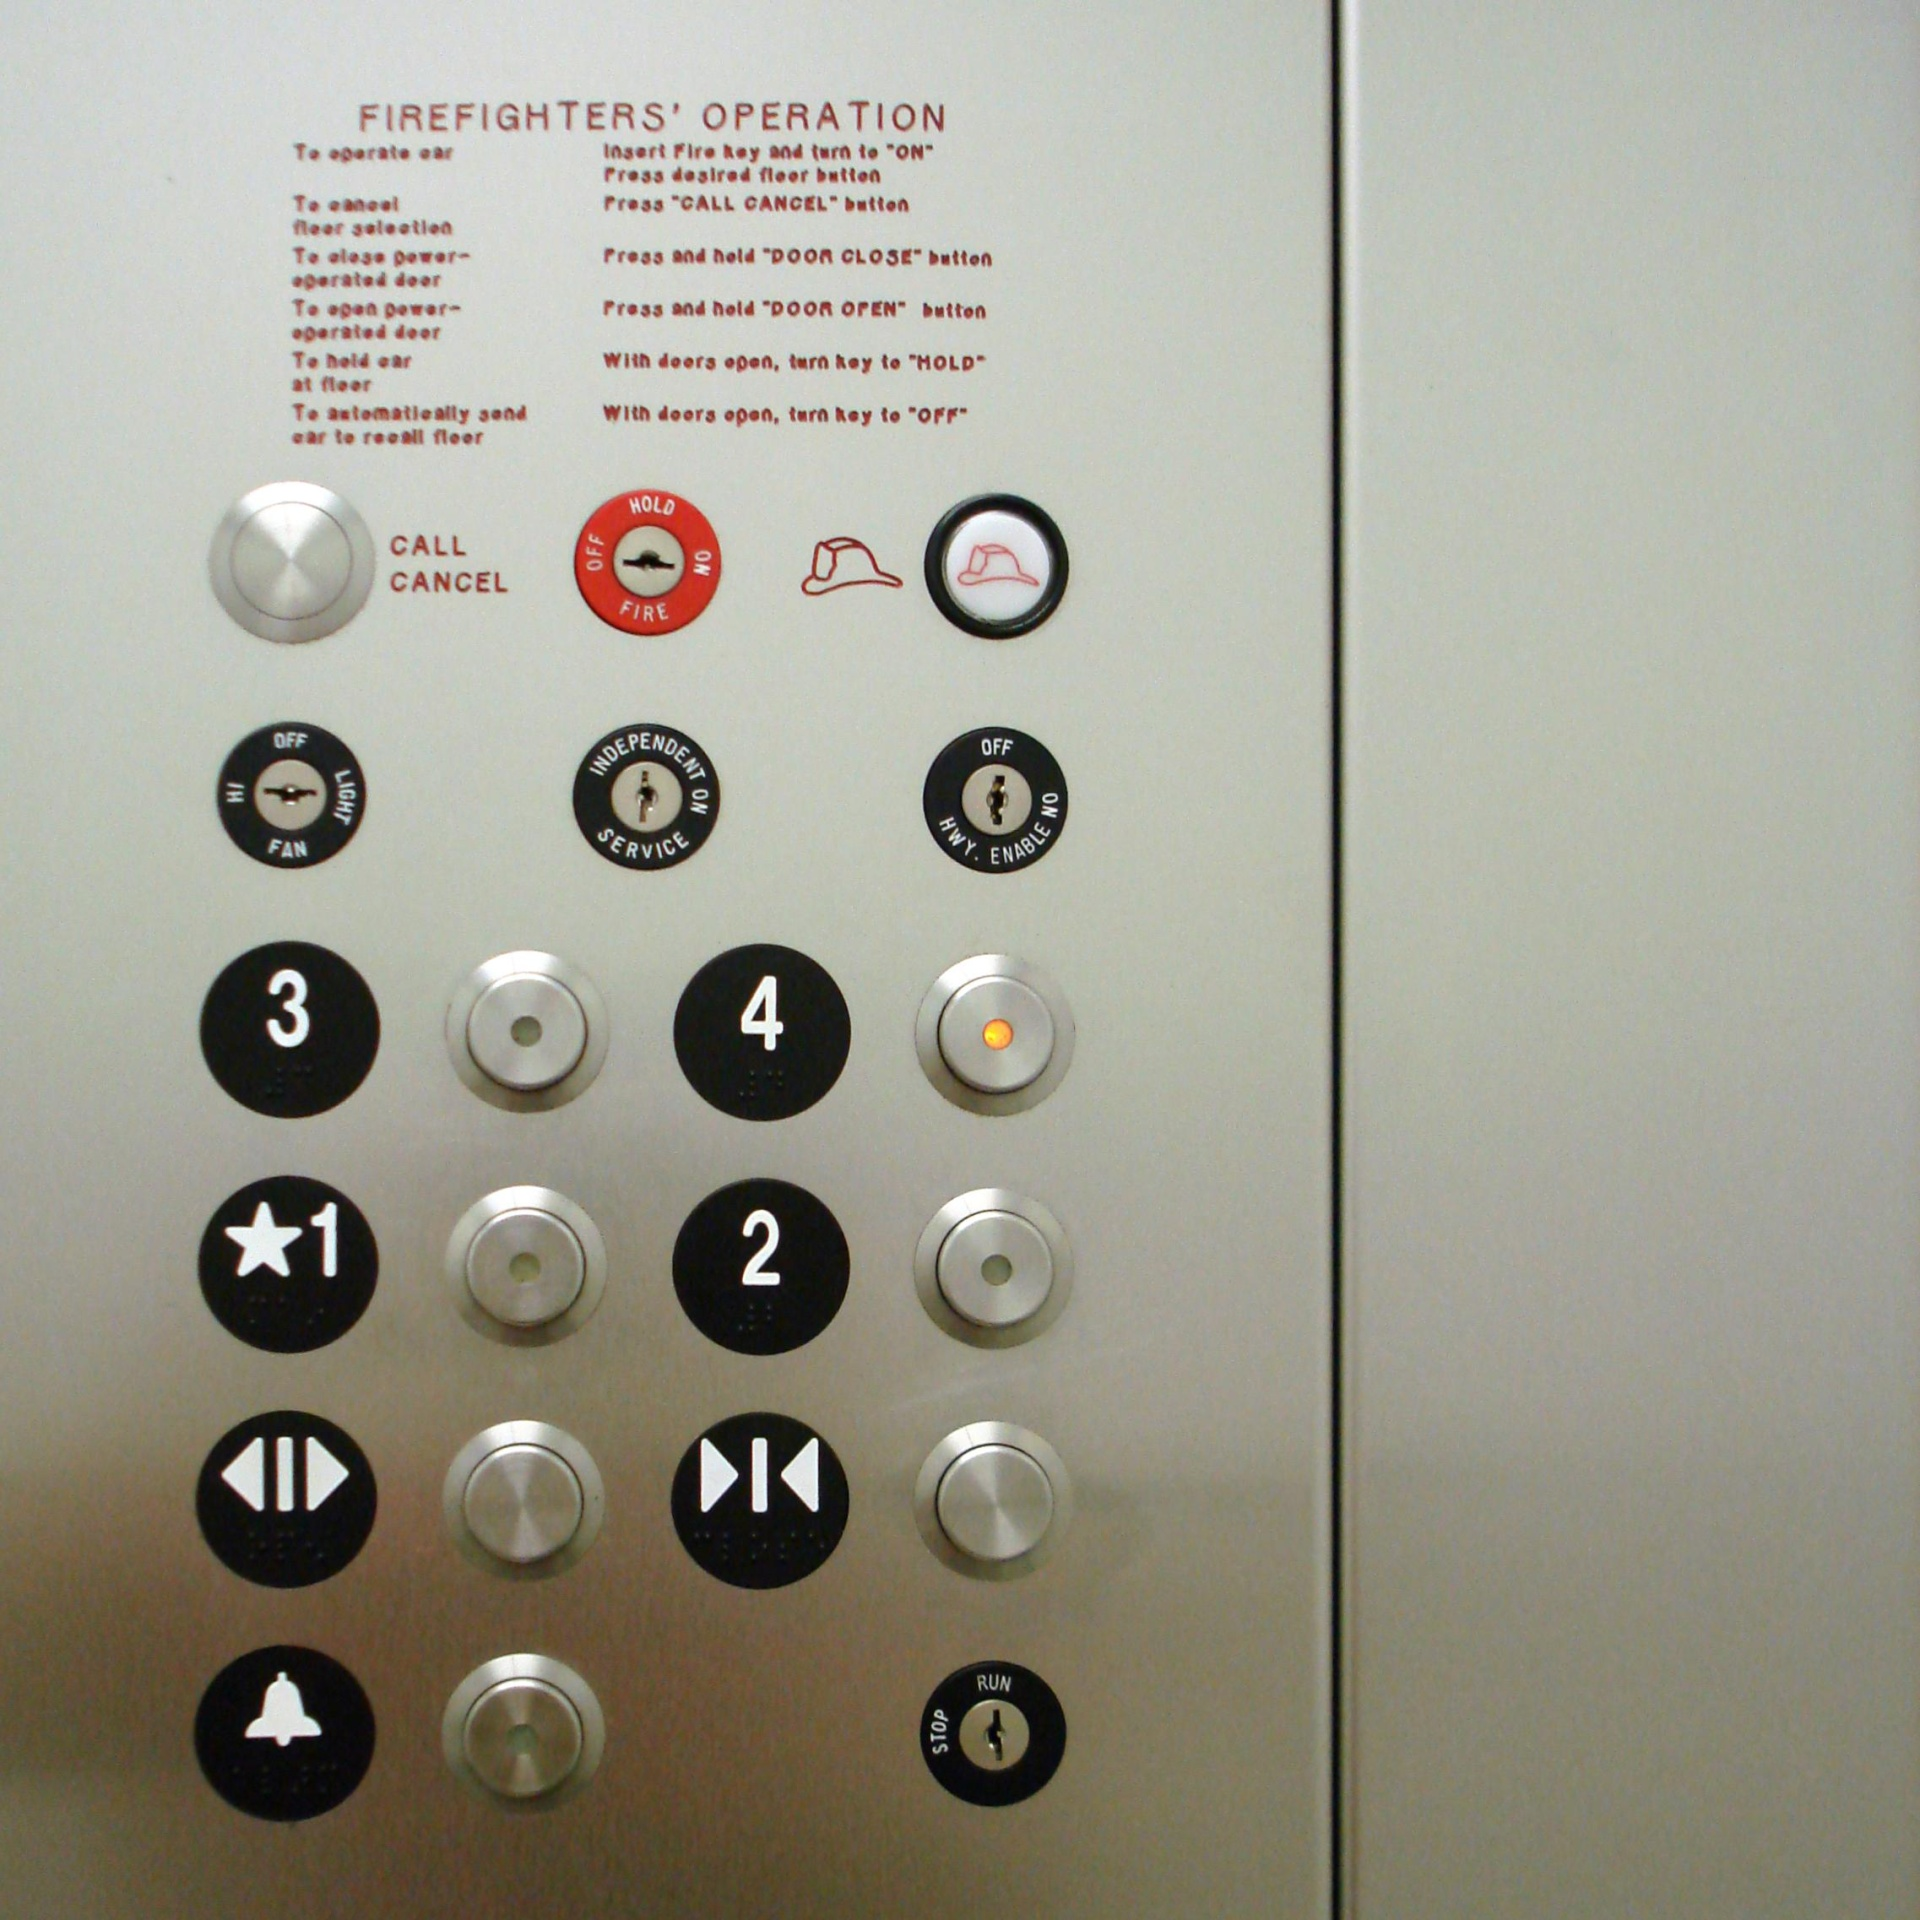2: (670, 1175, 855, 1361)
3: (199, 937, 385, 1125)
4: (672, 939, 853, 1125)
alarm: (186, 1635, 383, 1829)
close: (665, 1403, 856, 1595)
empty: (431, 1646, 614, 1825), (436, 1178, 614, 1357), (438, 1412, 610, 1591), (907, 1183, 1080, 1359), (914, 949, 1081, 1120), (909, 1417, 1078, 1584), (206, 476, 373, 644), (445, 948, 612, 1115)
hat: (925, 489, 1073, 644)
keyhole: (209, 716, 373, 876), (914, 1653, 1074, 1815), (568, 484, 726, 645), (570, 714, 724, 876), (925, 724, 1078, 877)
open: (188, 1401, 385, 1595)
s1: (195, 1173, 383, 1354)
